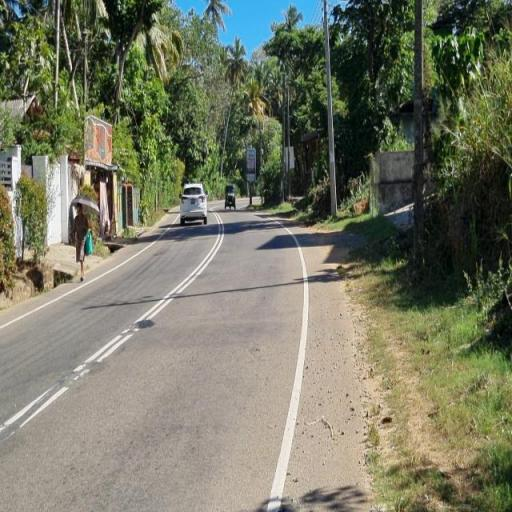double_white_line: (75, 212, 226, 382)
